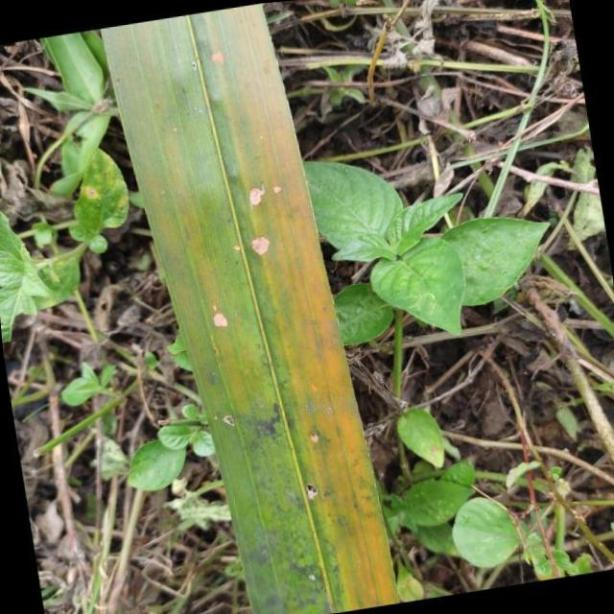Megnesium: (104, 0, 398, 614)
